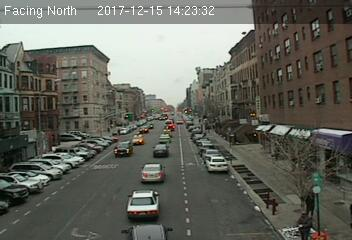car: (126, 188, 162, 218), (123, 222, 171, 240), (140, 162, 165, 182), (204, 154, 230, 173), (114, 141, 134, 157), (153, 143, 168, 157), (133, 131, 143, 146), (158, 133, 171, 144)
pedestrian: (296, 210, 311, 240)
